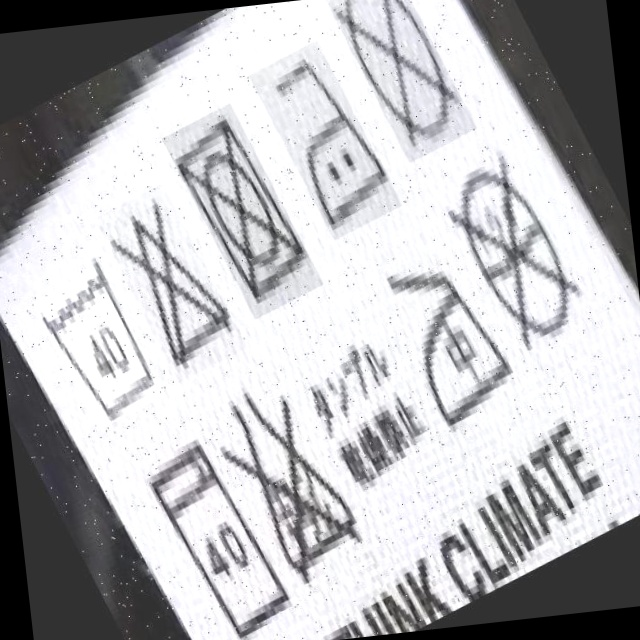40C: (139, 459, 294, 640), (49, 264, 154, 429)
DN_bleach: (129, 205, 235, 375)
DN_dry_clean: (339, 0, 483, 153), (457, 155, 576, 340)
DN_tumble_dry: (176, 115, 287, 284)
iron: (389, 263, 531, 412)
iron_medium: (268, 55, 392, 226)
